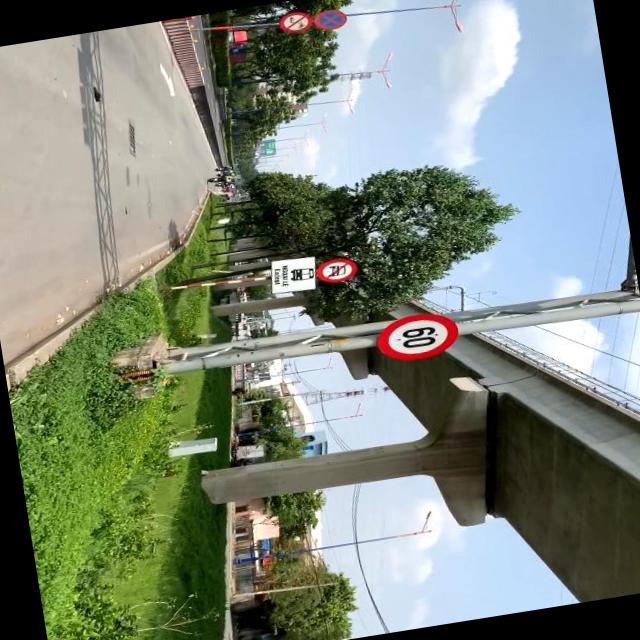P-127: (376, 310, 460, 366)
P-130: (310, 6, 350, 32)
